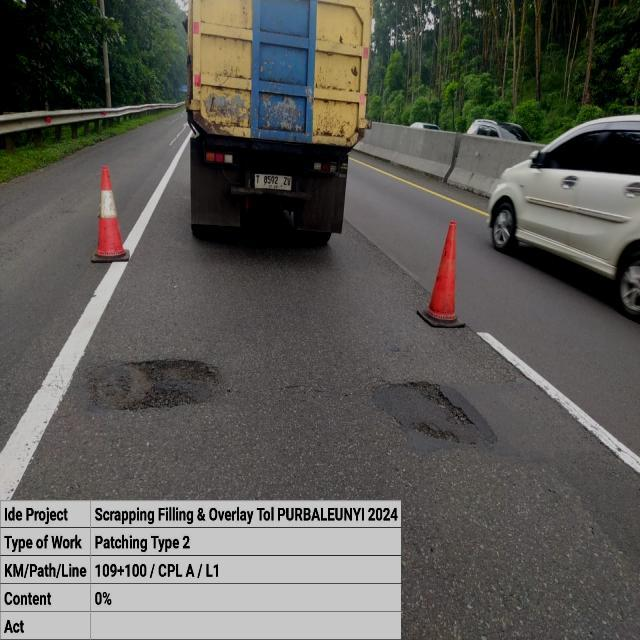Buraco: (86, 356, 224, 414), (400, 379, 478, 427), (407, 421, 462, 445)
